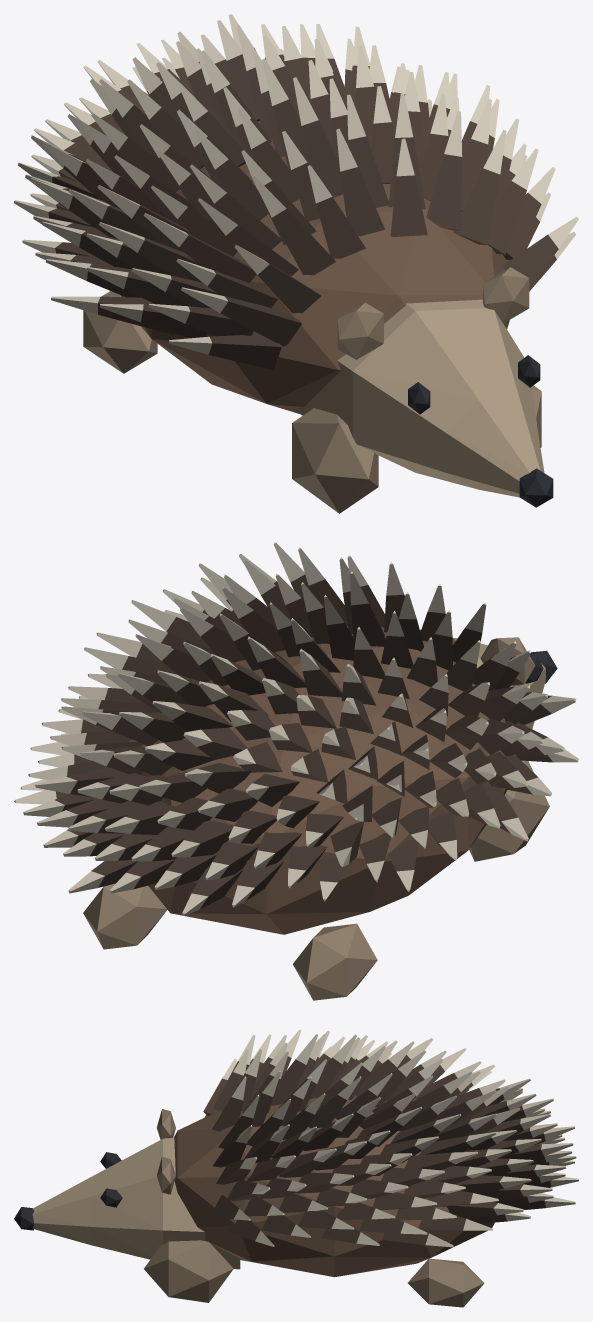
Rendered from Hedgehog.fbx.
The picture shows the model from 3 angles, top to bottom: view 1: azimuth 30°, elevation 25°; view 2: azimuth 150°, elevation 25°; view 3: azimuth 270°, elevation 25°; orthographic projection. The views are drawn at different scales.
Visible parts, largest first — view 1: Hedgehog_Back, Hedgehog_Snout; view 2: Hedgehog_Back, Hedgehog_Snout; view 3: Hedgehog_Back, Hedgehog_Snout.
Boxes of the visible parts, x1=… form: Hedgehog_Back: x1=14, y1=14, x2=578, y2=413; Hedgehog_Snout: x1=83, y1=267, x2=553, y2=513; Hedgehog_Back: x1=14, y1=542, x2=578, y2=934; Hedgehog_Snout: x1=83, y1=629, x2=557, y2=1000; Hedgehog_Back: x1=174, y1=1029, x2=578, y2=1277; Hedgehog_Snout: x1=14, y1=1109, x2=484, y2=1307.
Bounding box in the file's own units: 0.209 × 0.3292 × 0.1478.
